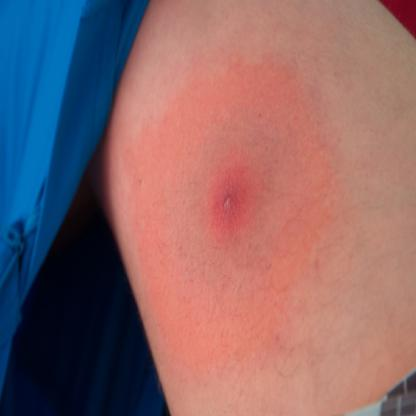Tick: (130, 44, 337, 370)
